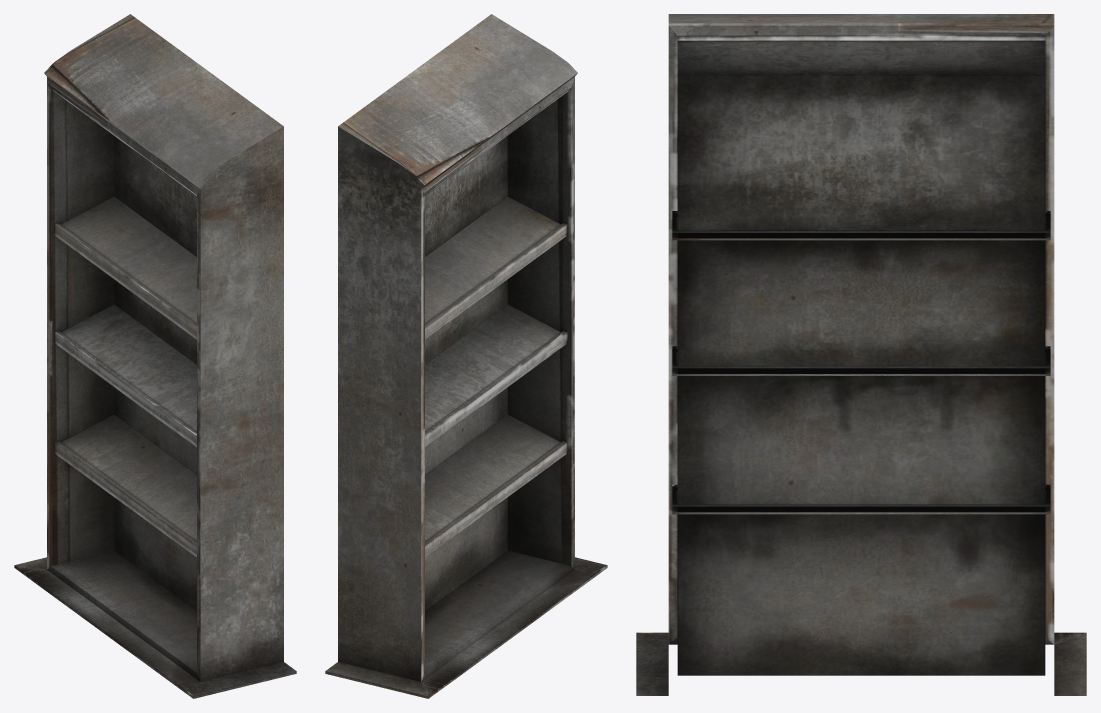
The model's file is shelf.FBX.
3 renders of one model, left to right at view 1: azimuth 30°, elevation 25°; view 2: azimuth 150°, elevation 25°; view 3: azimuth 270°, elevation 25°, orthographic. The views are drawn at different scales.
Parts seen in each view (by area): view 1: shelf; view 2: shelf; view 3: shelf.
Boxes of the visible parts, bbox=[...] form: shelf: bbox=[14, 14, 296, 698]; shelf: bbox=[325, 14, 607, 698]; shelf: bbox=[636, 14, 1086, 695].
Bounding box in the file's own units: 17.28 × 85.96 × 51.92.
